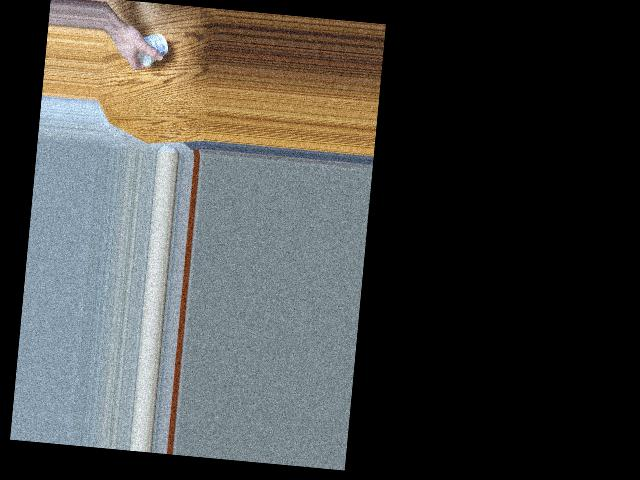cotage: (133, 30, 167, 68)
